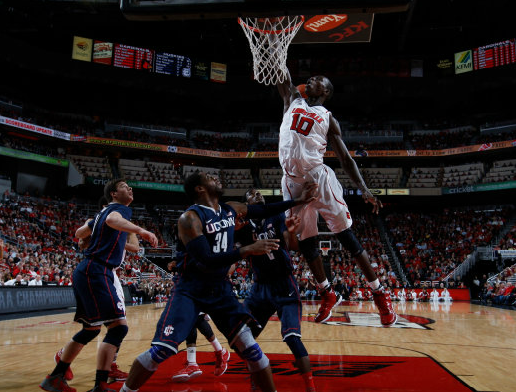basket: (233, 13, 307, 86)
player: (122, 172, 263, 391), (279, 68, 392, 323), (40, 182, 157, 392), (226, 187, 312, 388)
